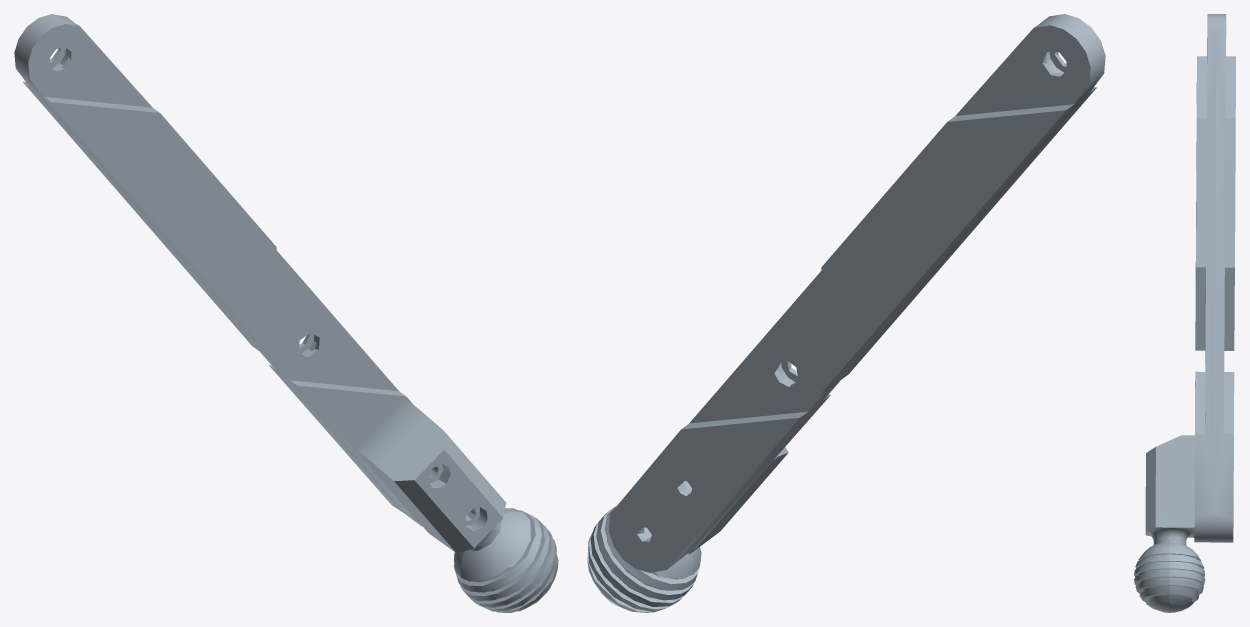
The picture shows the model from 3 angles, left to right: view 1: azimuth 30°, elevation 25°; view 2: azimuth 150°, elevation 25°; view 3: azimuth 270°, elevation 25°; orthographic projection. The views are drawn at different scales.
Parts seen in each view (by area): view 1: tmp_export_fr_link_2.009; view 2: tmp_export_fr_link_2.009; view 3: tmp_export_fr_link_2.009.
Part boxes in pixels (<box>): tmp_export_fr_link_2.009: <box>14,14,558,612</box>; tmp_export_fr_link_2.009: <box>587,14,1105,612</box>; tmp_export_fr_link_2.009: <box>1134,14,1235,612</box>.
Bounding box in the file's own units: 0.1202 × 0.0314 × 0.1541.
